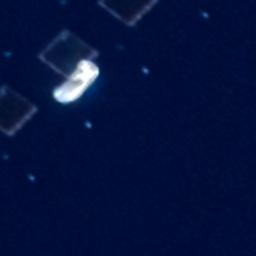square_solid: (36, 29, 101, 86), (1, 82, 39, 140), (93, 1, 160, 25)
